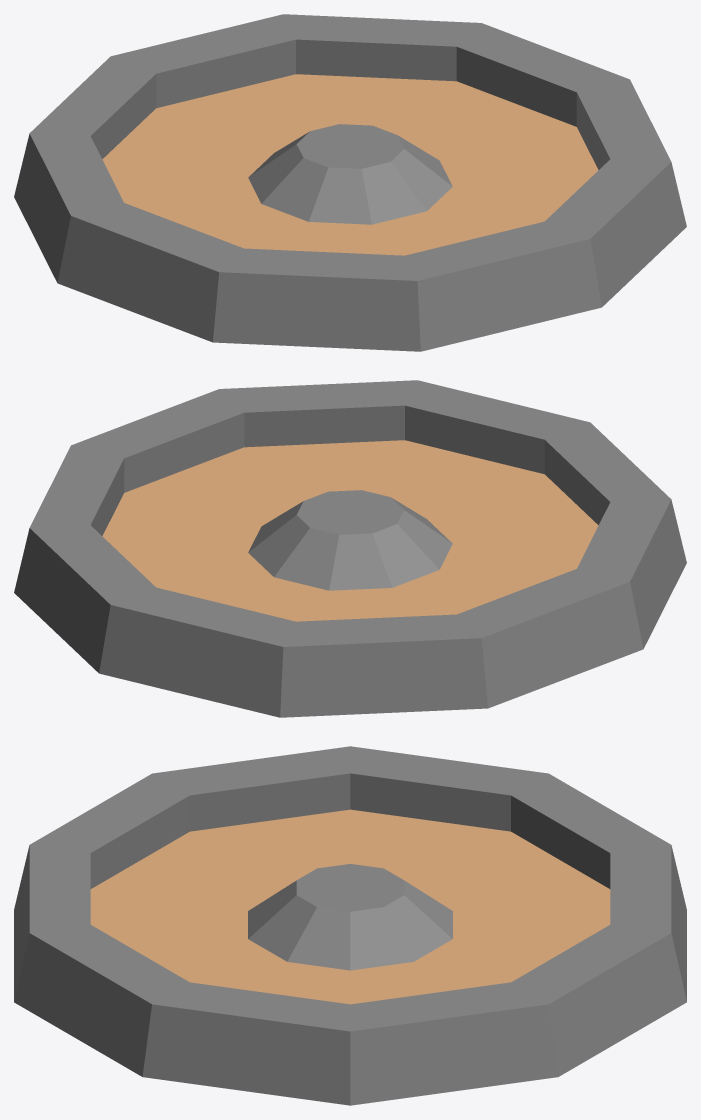
File: Shet.fbx
3 views of the same model, one above another, from view 1: azimuth 30°, elevation 25°; view 2: azimuth 150°, elevation 25°; view 3: azimuth 270°, elevation 25° (orthographic). The views are drawn at different scales.
Visible parts, largest first — view 1: Shield; view 2: Shield; view 3: Shield.
Boxes of the visible parts, left/top/right/bottom form: Shield: left=14, top=14, right=686, bottom=351; Shield: left=14, top=380, right=686, bottom=717; Shield: left=14, top=746, right=686, bottom=1105.
Bounding box in the file's own units: 298 × 55.66 × 284.
